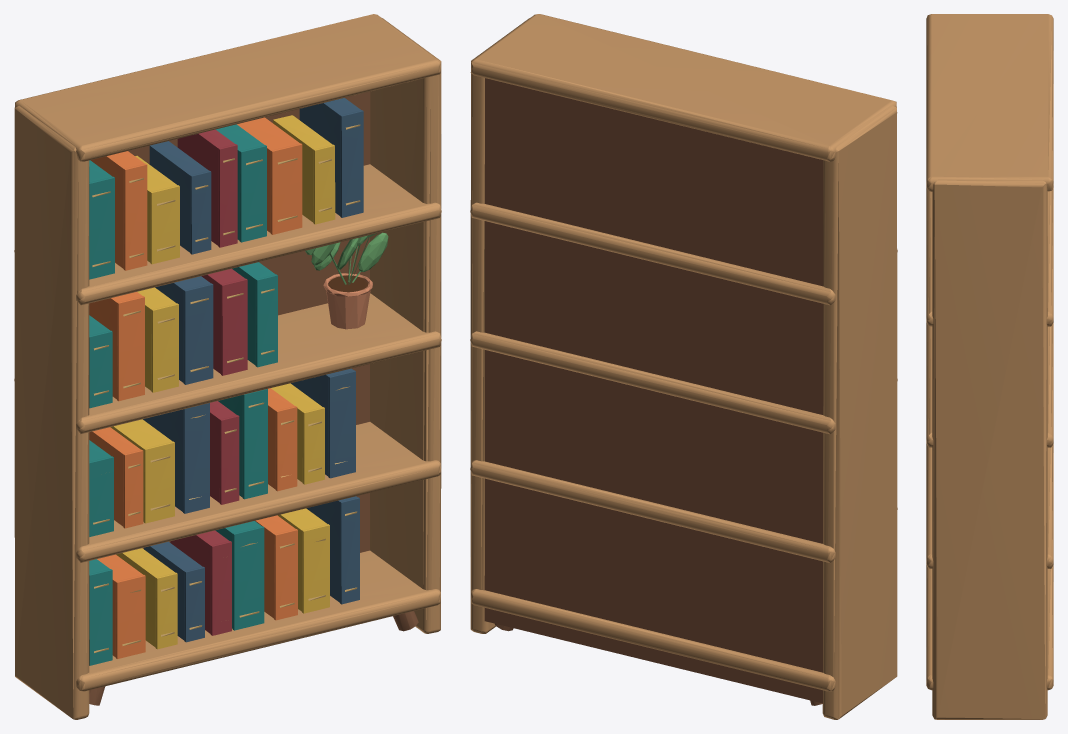
Rendered from atelier-archive-bookshelf.glb.
The picture shows the model from 3 angles, left to right: view 1: azimuth 30°, elevation 25°; view 2: azimuth 150°, elevation 25°; view 3: azimuth 270°, elevation 25°; orthographic projection. The views are drawn at different scales.
Visible parts, largest first — view 1: 01_archive_bookshelf_runtime; view 2: 01_archive_bookshelf_runtime; view 3: 01_archive_bookshelf_runtime.
Part boxes in pixels (x1,y1,x2,y2): 01_archive_bookshelf_runtime: (14,14,441,719); 01_archive_bookshelf_runtime: (470,14,897,719); 01_archive_bookshelf_runtime: (926,14,1053,719).
Bounding box in the file's own units: 1.33 × 1.97 × 0.42.
